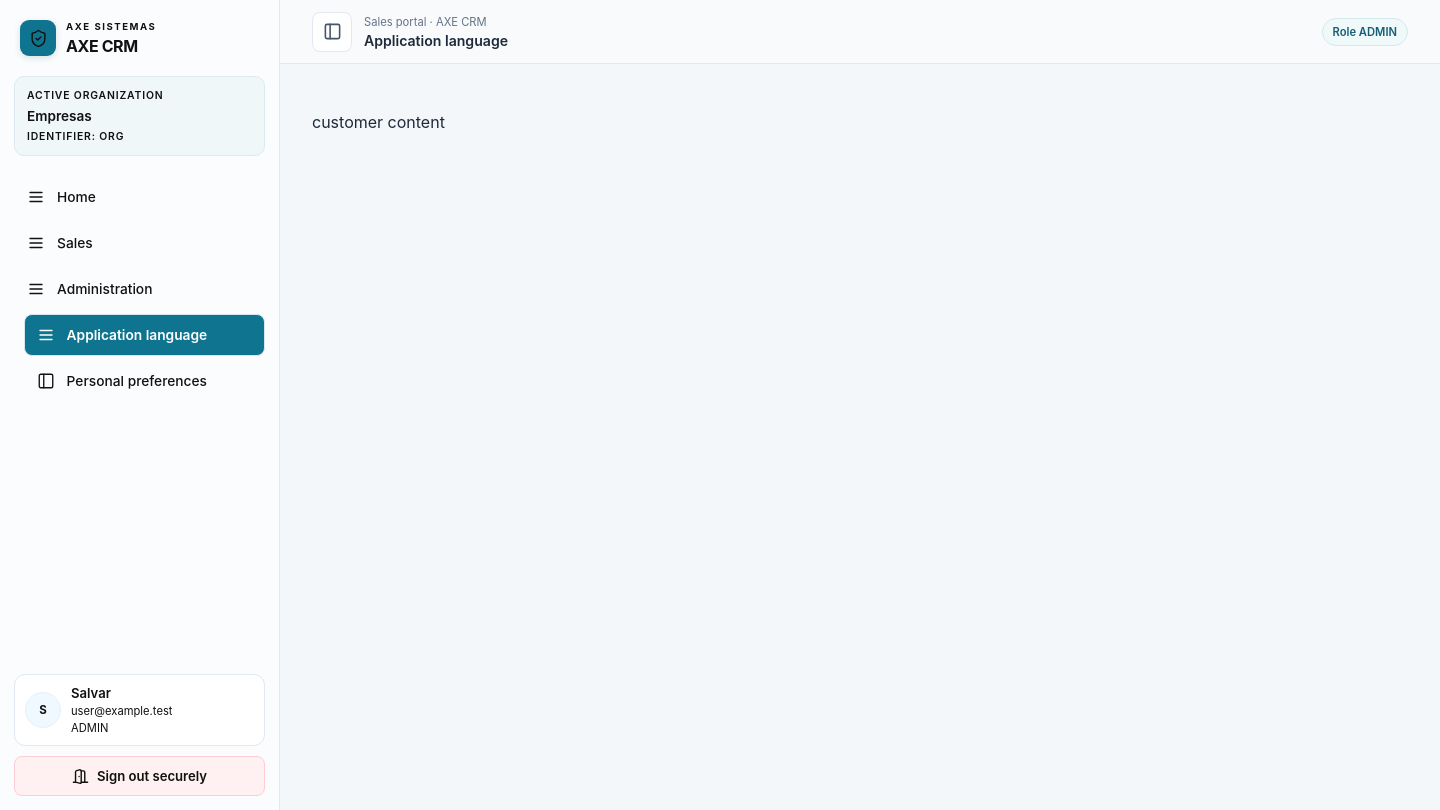
Test: translated CRM shell › renders navigation in en without translating customer names
Check: the button "Application language" is shown, box [24,314,265,356]
Click the button with aria-label "Group Sales" at (140, 243), box [14,222,265,264]
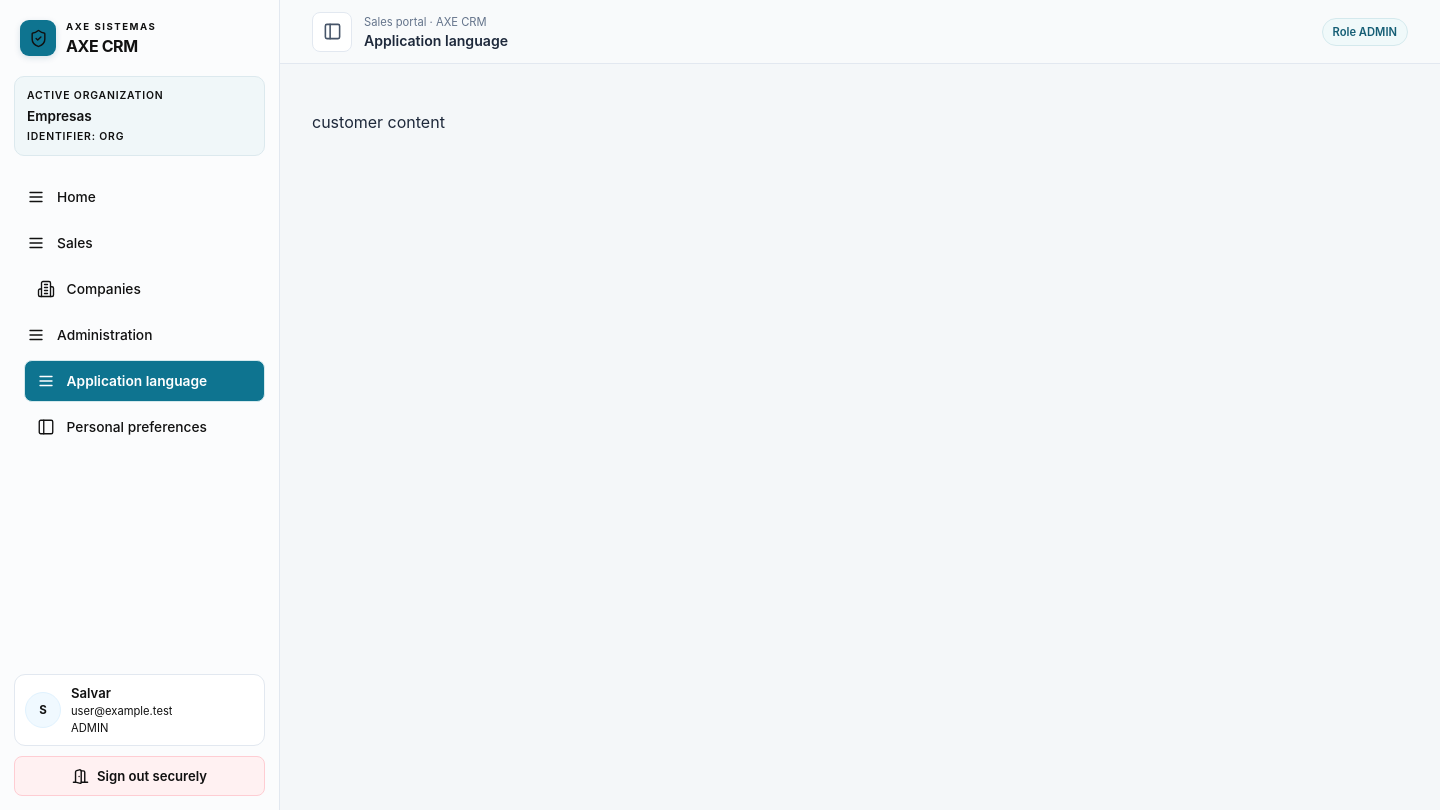
Check: the text "Salvar" is shown, box [71,685,111,701]
Check: the button "Companies" is shown, box [24,268,265,310]
